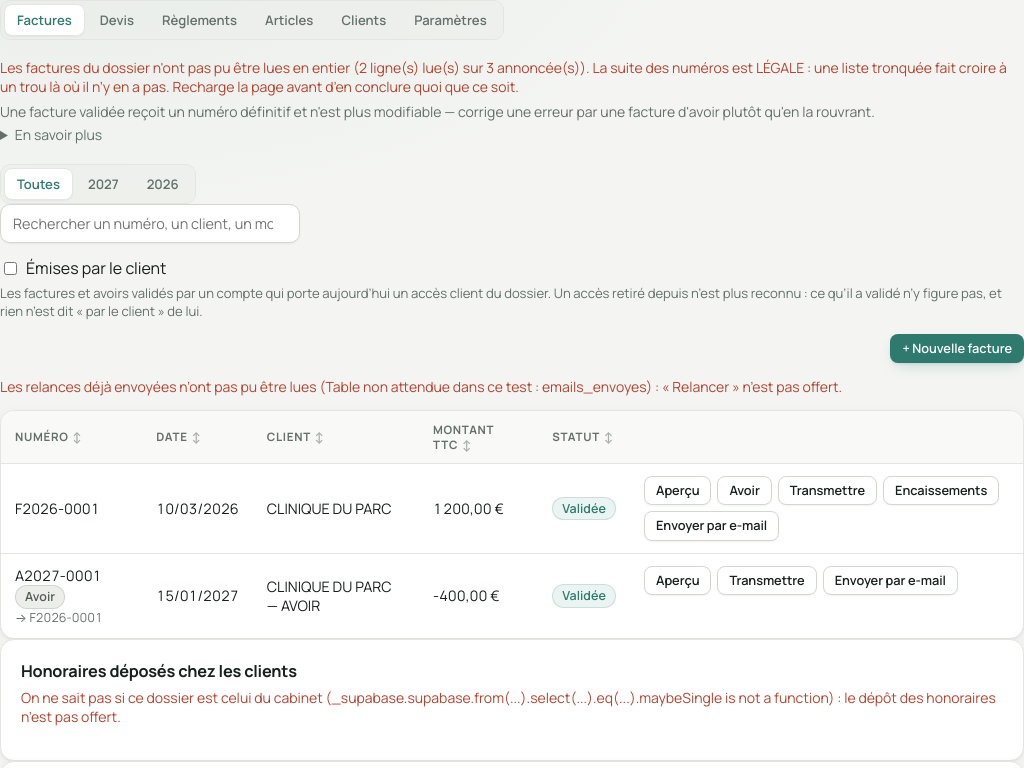
Test: FacturesTab — l’avoir connaît ce que la facture a déjà reçu › ne prétend rien savoir quand la liste n’a pas été lue en entier
Click the button "Avoir". click: (745, 490)
box: [717, 476, 772, 505]
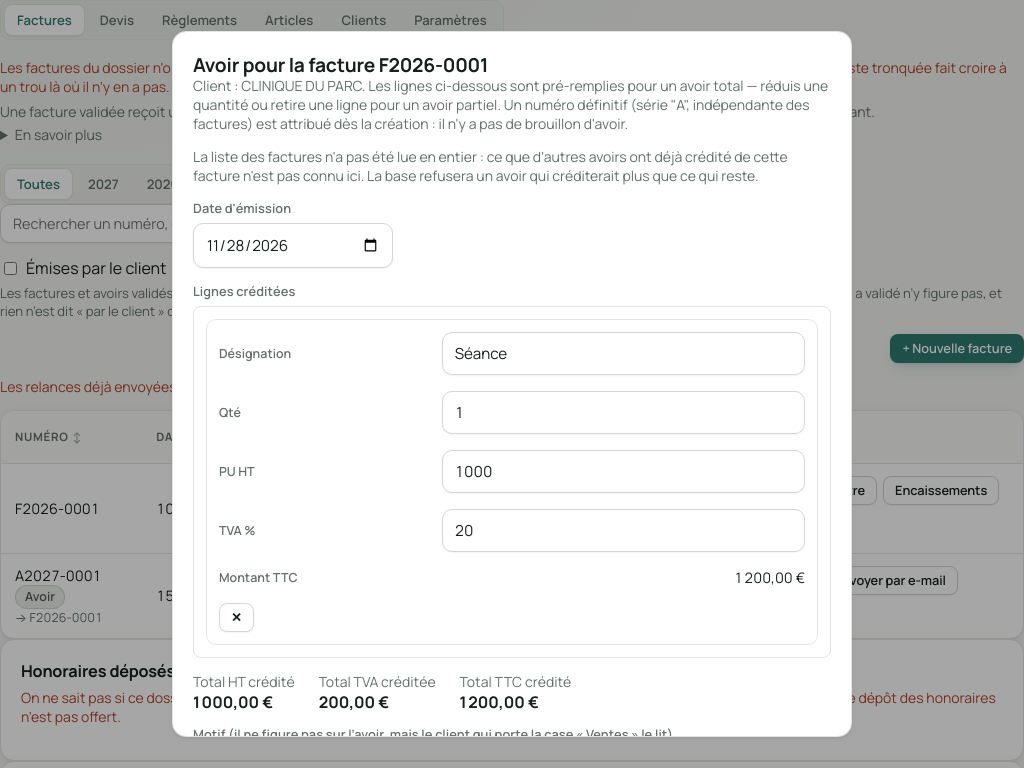
Check: the text "n'a pas été lue en entier" is shown, box [193, 147, 788, 185]
